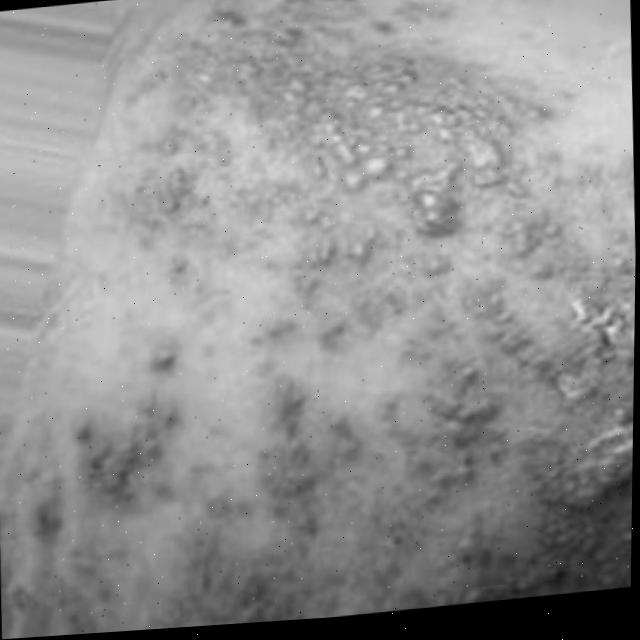Shingles: (59, 0, 640, 635)
